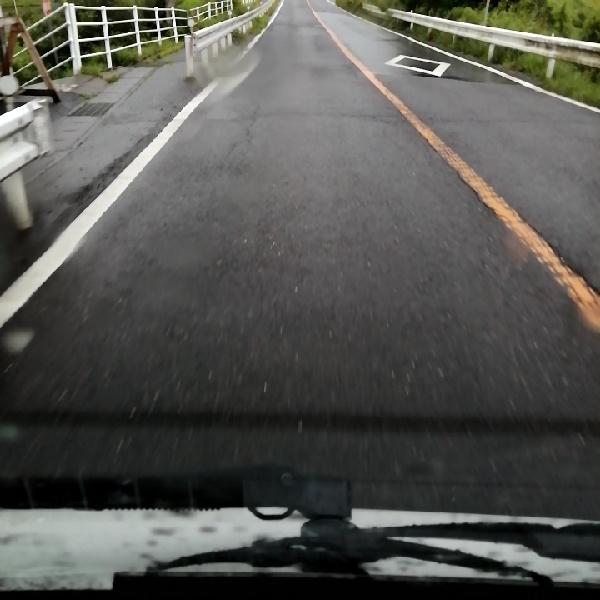D00: (218, 94, 270, 165)
D10: (416, 104, 587, 133), (268, 101, 392, 126)
